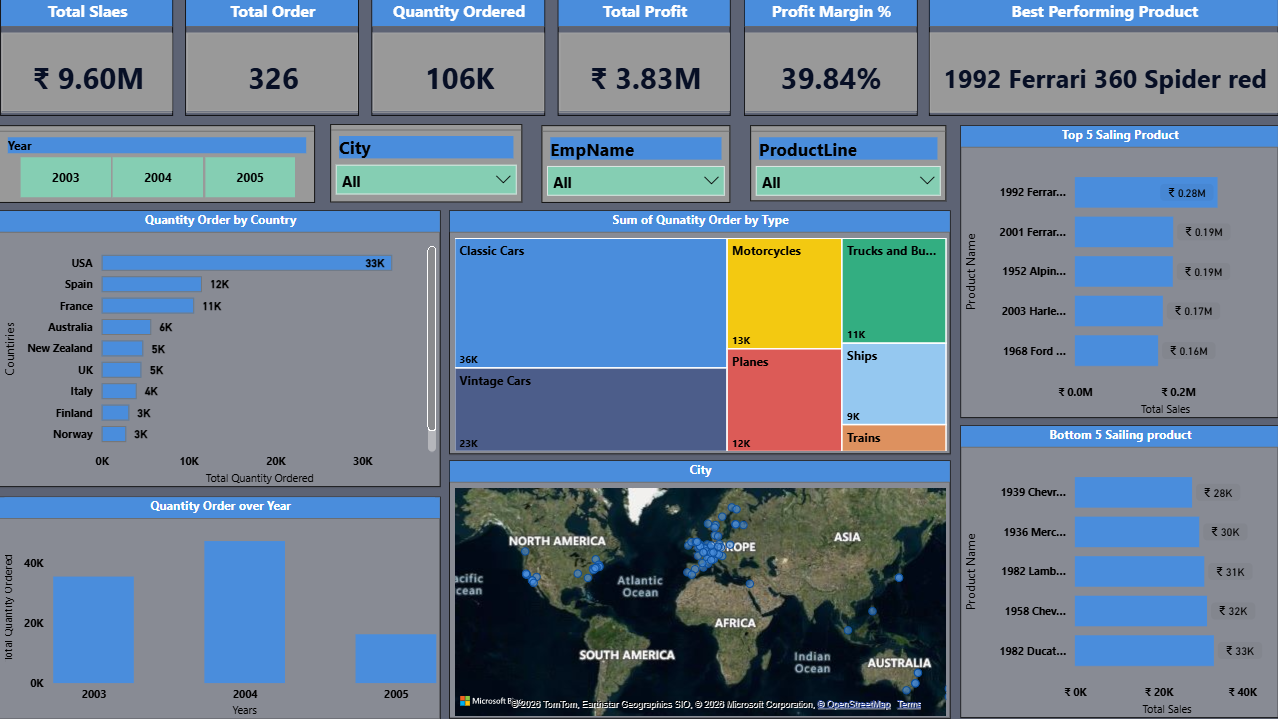

The page's visual inventory and layout, read from the dashboard file:
{"tool":"powerbi","page":{"name":"Main Dashboard","canvas":[1280,720],"ordinal":0},"visuals":[{"type":"cardVisual","title":"Quantity Ordered","fields":{"Data":["Sum(order details.quantityOrdered)"]},"box":[372.2,0,173.6,116.7],"z":0},{"type":"barChart","title":"Top 5 Saling Product","fields":{"Category":["products.productName"],"Y":["Sum(order details.Sales)"]},"box":[960.9,126.4,318.4,293.1],"z":1000},{"type":"barChart","title":"Quantity Order by Country","fields":{"Y":["Sum(order details.quantityOrdered)"],"Category":["customers.country"]},"box":[0,211.5,441.4,277],"z":2000},{"type":"slicer","fields":{"Values":["orders.year"]},"box":[0,125.8,316.1,77.2],"z":3000},{"type":"cardVisual","title":"Total Profit","fields":{"Data":["Sum(order details.profit)"]},"box":[558.3,0,173,116.7],"z":4000},{"type":"cardVisual","title":"Total Slaes","fields":{"Data":["Sum(order details.Sales)"]},"box":[0,1.2,172.5,116.2],"z":5000},{"type":"treemap","title":"Sum of Qunatity Order by Type","fields":{"Group":["products.productLine"],"Values":["Sum(order details.quantityOrdered)"]},"box":[450,211.4,501.4,244.3],"z":6000},{"type":"cardVisual","title":"Profit Margin %","fields":{"Data":["order details.Profit Margin %"]},"box":[744.4,0,173.6,116.7],"z":7000},{"type":"slicer","fields":{"Values":["customers.city"]},"box":[331.8,124.6,191.8,78.4],"z":8000},{"type":"slicer","fields":{"Values":["customers.FullName"]},"box":[543.1,126.1,188.9,77.8],"z":9000},{"type":"slicer","fields":{"Values":["products.productLine"]},"box":[751.4,126.1,195.8,76.4],"z":10000},{"type":"clusteredColumnChart","title":"Quantity Order over Year","fields":{"Category":["orders.year"],"Y":["Sum(order details.quantityOrdered)"]},"box":[0,497.1,441.6,223.2],"z":11000},{"type":"barChart","title":"Bottom 5 Sailing product","fields":{"Category":["products.productName"],"Y":["Sum(order details.Sales)"]},"box":[960.9,426.4,318.4,293.1],"z":12000},{"type":"cardVisual","title":"Best Performing Product","fields":{"Data":["order details.Most Ordered Product"]},"box":[930.2,0,349.9,117],"z":13000},{"type":"cardVisual","title":"Total Order","fields":{"Data":["order details.Total Orders"]},"box":[186.1,0,173.6,116.7],"z":14000},{"type":"map","title":"City","fields":{"Category":["customers.city"]},"box":[450,461.4,501.4,258.6],"z":15000}]}

Visuals, with their boxes in screenshot pixels (x1, y1, x2, y2), scaled from the page's 1280x720 canvas onto the 1278x719 screenshot:
"Quantity Ordered" cardVisual: crop(372, 0, 545, 117)
"Top 5 Saling Product" barChart: crop(959, 126, 1277, 419)
"Quantity Order by Country" barChart: crop(0, 211, 441, 488)
slicer - orders.year: crop(0, 126, 316, 203)
"Total Profit" cardVisual: crop(557, 0, 730, 117)
"Total Slaes" cardVisual: crop(0, 1, 172, 117)
"Sum of Qunatity Order by Type" treemap: crop(449, 211, 950, 455)
"Profit Margin %" cardVisual: crop(743, 0, 917, 117)
slicer - customers.city: crop(331, 124, 523, 203)
slicer - customers.FullName: crop(542, 126, 731, 204)
slicer - products.productLine: crop(750, 126, 946, 202)
"Quantity Order over Year" clusteredColumnChart: crop(0, 496, 441, 718)
"Bottom 5 Sailing product" barChart: crop(959, 426, 1277, 718)
"Best Performing Product" cardVisual: crop(929, 0, 1277, 117)
"Total Order" cardVisual: crop(186, 0, 359, 117)
"City" map: crop(449, 461, 950, 718)
